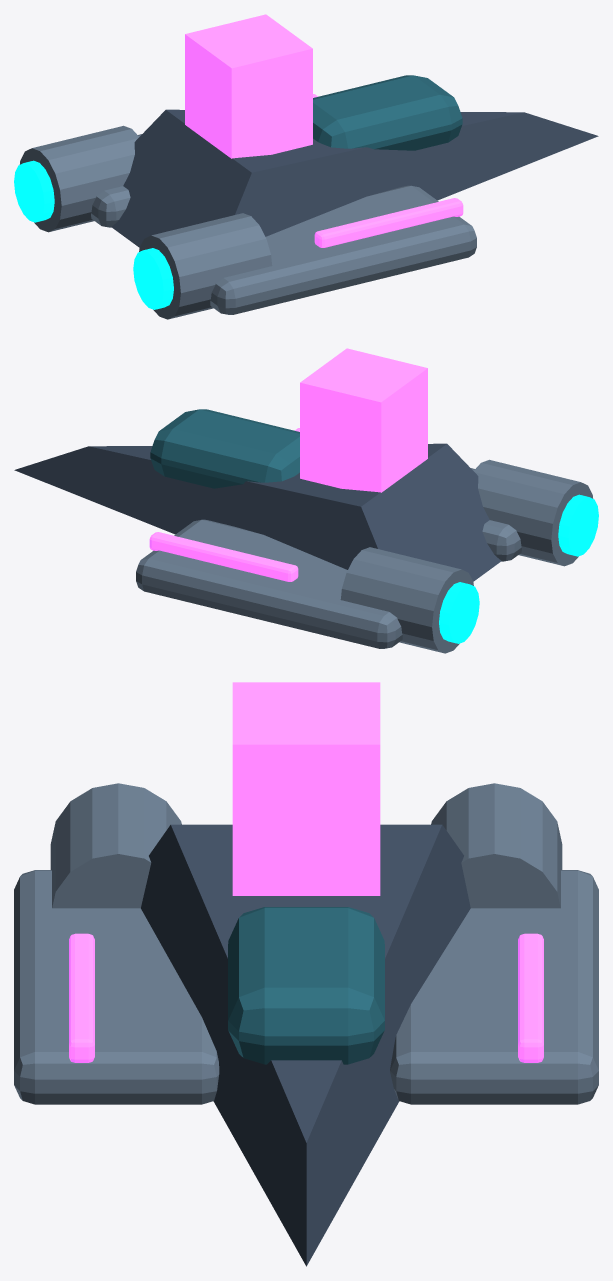
File: ShuttleViolet.fbx
The picture shows the model from 3 angles, top to bottom: view 1: azimuth 30°, elevation 25°; view 2: azimuth 150°, elevation 25°; view 3: azimuth 270°, elevation 25°; orthographic projection. The views are drawn at different scales.
Visible parts, largest first — view 1: Cargo shuttle hull.003, Cargo crystal.003, Swept wing.006, Cockpit.003, Ion engine.006, Ion engine.007, Cargo stripe.006, Ion exhaust.006, Ion exhaust.007, Swept wing.007; view 2: Cargo shuttle hull.003, Cargo crystal.003, Swept wing.007, Cockpit.003, Ion engine.007, Ion engine.006, Cargo stripe.007, Ion exhaust.007, Ion exhaust.006, Swept wing.006; view 3: Cargo shuttle hull.003, Swept wing.007, Swept wing.006, Cargo crystal.003, Cockpit.003, Ion engine.007, Ion engine.006, Cargo stripe.006, Cargo stripe.007.
Boxes of the visible parts, x1=… form: Cargo shuttle hull.003: x1=111, y1=109, x2=598, y2=247; Cargo crystal.003: x1=185, y1=14, x2=312, y2=158; Swept wing.006: x1=210, y1=185, x2=476, y2=314; Cockpit.003: x1=313, y1=75, x2=462, y2=150; Ion engine.006: x1=139, y1=213, x2=272, y2=319; Ion engine.007: x1=19, y1=125, x2=138, y2=232; Cargo stripe.006: x1=314, y1=198, x2=463, y2=247; Ion exhaust.006: x1=133, y1=248, x2=173, y2=309; Ion exhaust.007: x1=14, y1=160, x2=54, y2=222; Swept wing.007: x1=91, y1=134, x2=141, y2=227; Cargo shuttle hull.003: x1=14, y1=443, x2=501, y2=581; Cargo crystal.003: x1=300, y1=348, x2=427, y2=492; Swept wing.007: x1=136, y1=519, x2=402, y2=648; Cockpit.003: x1=150, y1=409, x2=299, y2=488; Ion engine.007: x1=340, y1=547, x2=473, y2=653; Ion engine.006: x1=474, y1=459, x2=593, y2=566; Cargo stripe.007: x1=149, y1=532, x2=298, y2=581; Ion exhaust.007: x1=439, y1=582, x2=479, y2=643; Ion exhaust.006: x1=558, y1=494, x2=598, y2=556; Swept wing.006: x1=471, y1=468, x2=521, y2=561; Cargo shuttle hull.003: x1=141, y1=824, x2=470, y2=1266; Swept wing.007: x1=390, y1=870, x2=598, y2=1104; Swept wing.006: x1=14, y1=870, x2=219, y2=1104; Cargo crystal.003: x1=232, y1=682, x2=380, y2=895; Cockpit.003: x1=228, y1=907, x2=384, y2=1064; Ion engine.007: x1=431, y1=783, x2=562, y2=908; Ion engine.006: x1=50, y1=783, x2=181, y2=908; Cargo stripe.006: x1=69, y1=933, x2=94, y2=1062; Cargo stripe.007: x1=518, y1=933, x2=543, y2=1062.
Bounding box in the file's own units: 88.9 × 32.5 × 56.
